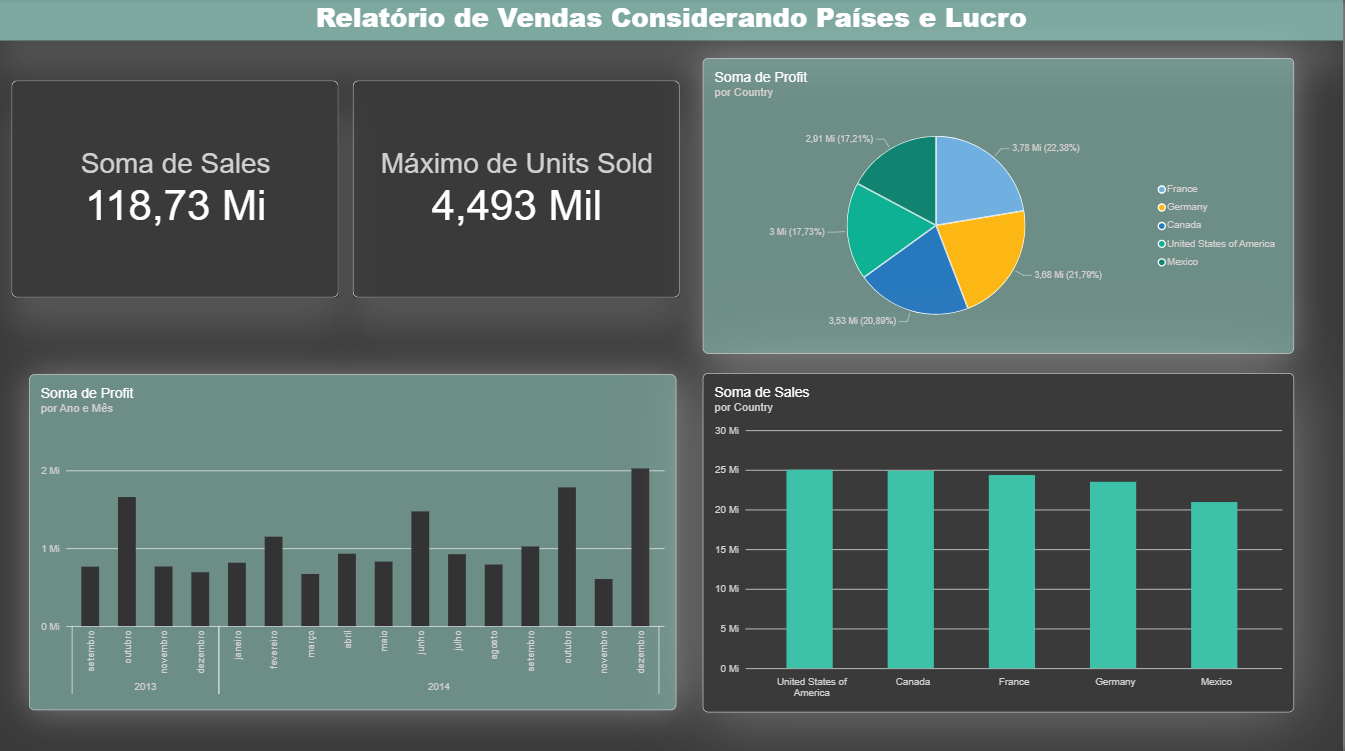

The dashboard page shown, as its layout file describes it:
{"tool":"powerbi","page":{"name":"Página 2","canvas":[1920,1080],"ordinal":1},"visuals":[{"type":"textbox","box":[0,0,1920.4,60.6],"z":0},{"type":"cardVisual","fields":{"Data":["Max(financials.Units Sold)"]},"box":[505,117.5,467.5,310],"z":1000},{"type":"cardVisual","fields":{"Data":["Sum(financials.Sales)"]},"box":[17.5,117.5,467.5,310],"z":2000},{"type":"pieChart","fields":{"Category":["financials.Country"],"Y":["Sum(financials.Profit)"]},"box":[1005,85,845,422.5],"z":3000},{"type":"clusteredColumnChart","fields":{"Category":["financials.Date.Variation.Hierarquia de datas.Ano","financials.Date.Variation.Hierarquia de datas.Mês"],"Y":["Sum(financials.Profit)"]},"box":[42.5,537.5,925,480],"z":4000},{"type":"clusteredColumnChart","fields":{"Category":["financials.Country"],"Y":["Sum(financials.Sales)"]},"box":[1005,535,845,485],"z":5000}]}

Visuals, with their boxes in screenshot pixels (x1, y1, x2, y2), scaled from the page's 1920x1080 canvas onto the 1345x751 screenshot:
textbox: select_region(0, 0, 1344, 42)
cardVisual - Max(financials.Units Sold): select_region(354, 82, 681, 297)
cardVisual - Sum(financials.Sales): select_region(12, 82, 340, 297)
pieChart - financials.Country x Sum(financials.Profit): select_region(704, 59, 1296, 353)
clusteredColumnChart - financials.Date.Variation.Hierarquia de datas.Ano x financials.Date.Variation.Hierarquia de datas.Mês: select_region(30, 374, 678, 708)
clusteredColumnChart - financials.Country x Sum(financials.Sales): select_region(704, 372, 1296, 709)
